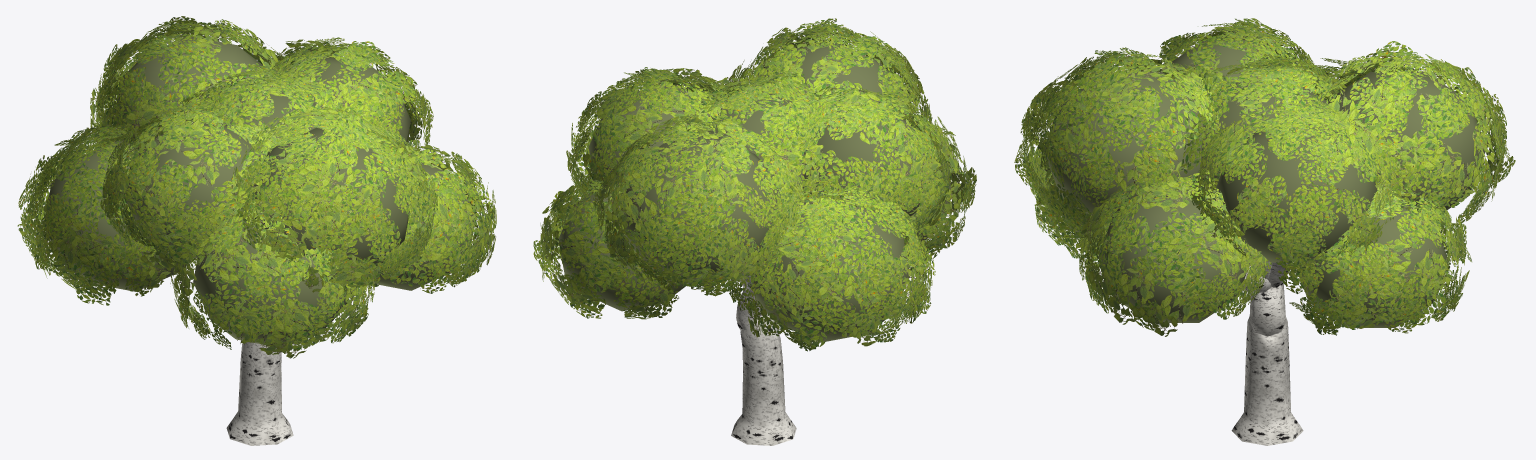
The model's file is tree_birch_2.glb.
3 renders of one model, left to right at view 1: azimuth 30°, elevation 25°; view 2: azimuth 150°, elevation 25°; view 3: azimuth 270°, elevation 25°, orthographic. The views are drawn at different scales.
Parts seen in each view (by area): view 1: Leaves, CrownCore, Trunk; view 2: Leaves, CrownCore, Trunk; view 3: Leaves, CrownCore, Trunk.
Boxes of the visible parts, bbox=[...] form: Leaves: bbox=[17, 16, 496, 358]; CrownCore: bbox=[45, 36, 475, 347]; Trunk: bbox=[226, 342, 293, 445]; Leaves: bbox=[533, 18, 976, 351]; CrownCore: bbox=[558, 41, 952, 342]; Trunk: bbox=[731, 272, 796, 445]; Leaves: bbox=[1014, 18, 1515, 336]; CrownCore: bbox=[1045, 40, 1485, 327]; Trunk: bbox=[1231, 252, 1303, 445].
Size of the model in its own units: 5.57 by 5.16 by 6.23.
Materials: 3 (2 with a texture image).
